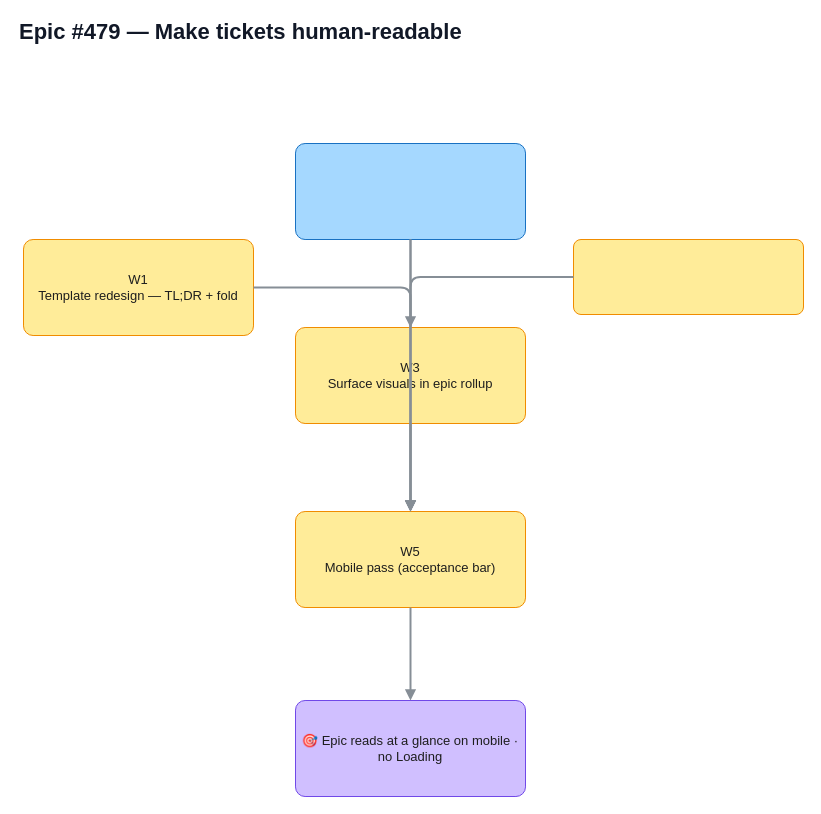
Some shapes in this 821 by 814 pixel diagram are drawn without their labels. Each missing label, with the centre of its shape:
"test" belongs at point 688,276.
"W2 Auto-render dep graph → PNG (#483)" belongs at point 410,191.
